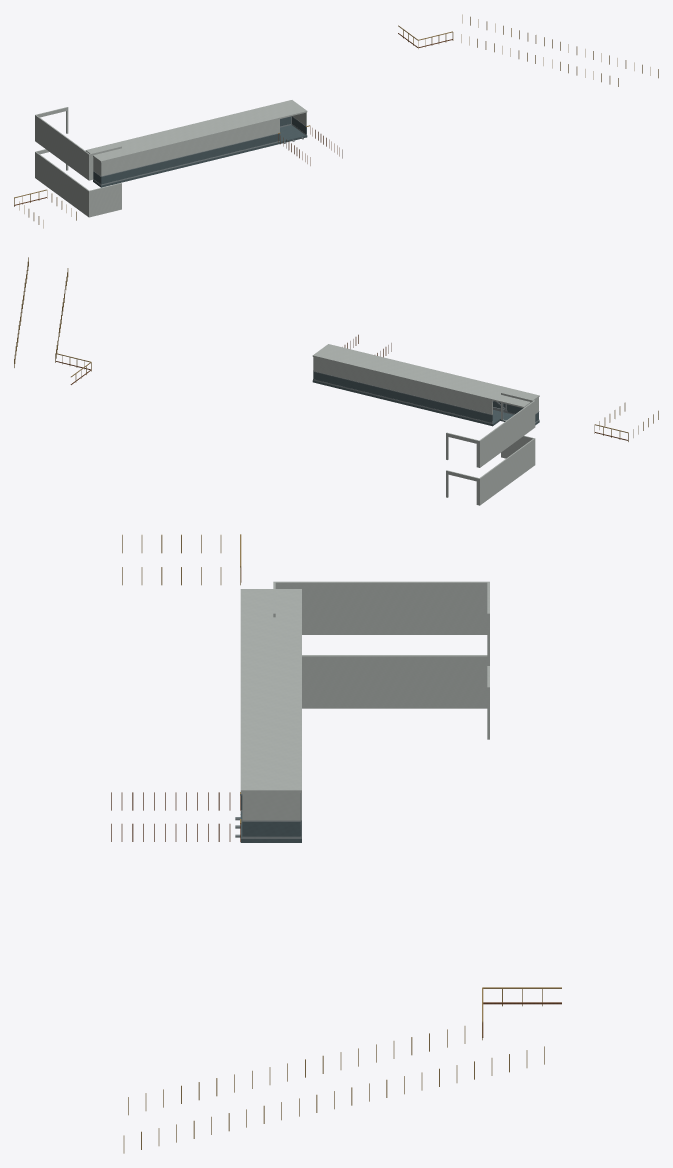
File: QUIET_D15_STAFF_RECEIVING_r004.glb
3 renders of one model, top to bottom at view 1: azimuth 30°, elevation 25°; view 2: azimuth 150°, elevation 25°; view 3: azimuth 270°, elevation 25°, orthographic. The views are drawn at different scales.
Parts seen in each view (by area): view 1: PATCH_lobby_wall_staff_white_paint_y11, Q15_Canopy, Q15_Edge1_Enamel, Q15_Edge1_Dado, PATCH_QG_Batch_57, Q15_MissingFloor, PATCH_QG_Batch_85, Q15_Edge1_Toe; view 2: PATCH_lobby_wall_staff_white_paint_y11, Q15_Canopy, Q15_Edge0_Enamel, Q15_Edge0_Dado, PATCH_QG_Batch_57, Q15_MissingFloor; view 3: PATCH_lobby_wall_staff_white_paint_y11, Q15_Canopy, PATCH_QG_Batch_57, Q15_Edge2_Enamel, PATCH_QG_Batch_85, Q15_Edge2_Dado.
Boxes of the visible parts, x1,y1,x2,y2 form: PATCH_lobby_wall_staff_white_paint_y11: (35, 107, 121, 217); Q15_Canopy: (85, 100, 307, 162); Q15_Edge1_Enamel: (101, 119, 279, 176); Q15_Edge1_Dado: (101, 133, 279, 184); PATCH_QG_Batch_57: (14, 14, 658, 228); Q15_MissingFloor: (93, 125, 307, 187); PATCH_QG_Batch_85: (14, 33, 452, 205); Q15_Edge1_Toe: (101, 141, 279, 185); PATCH_lobby_wall_staff_white_paint_y11: (446, 392, 535, 505); Q15_Canopy: (312, 344, 539, 407); Q15_Edge0_Enamel: (313, 357, 492, 414); Q15_Edge0_Dado: (313, 372, 492, 422); PATCH_QG_Batch_57: (14, 257, 658, 441); Q15_MissingFloor: (312, 380, 539, 426); PATCH_lobby_wall_staff_white_paint_y11: (273, 581, 489, 739); Q15_Canopy: (240, 589, 301, 792); PATCH_QG_Batch_57: (122, 534, 561, 1153); Q15_Edge2_Enamel: (242, 793, 300, 820); PATCH_QG_Batch_85: (111, 568, 561, 1037); Q15_Edge2_Dado: (242, 822, 300, 836).
Size of the model in its own units: 78.74 by 7.7 by 24.99.
9 materials, 8 textured.
